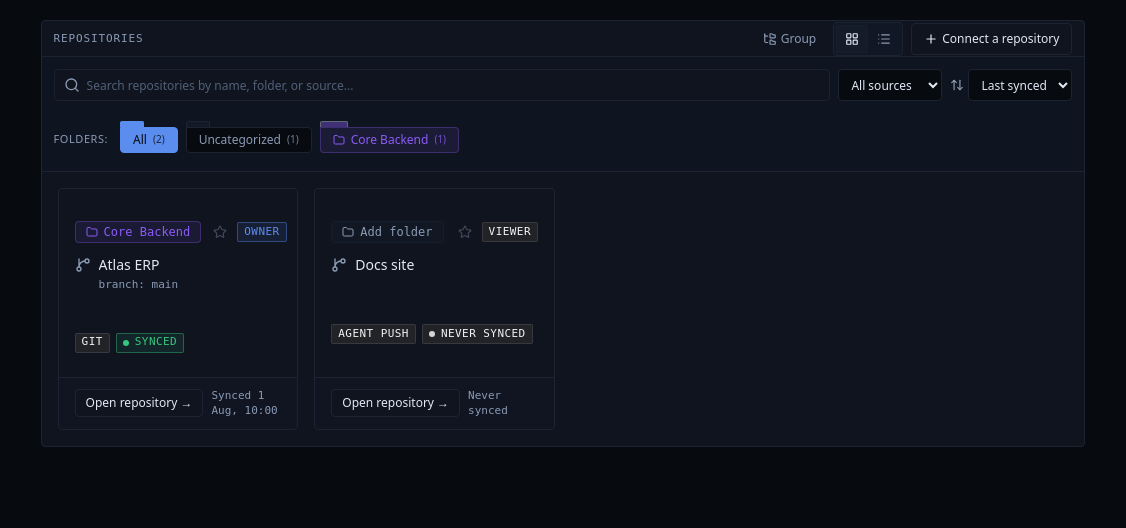
ReposPage › renders responsive mobile container, actions, and overflow table wrapper
Expected: the link "Atlas ERP" is shown, [99,255,159,274]
Switch to list view and verify table overflow container
Click the button named "List view" at (884, 38), box [868,24,900,52]
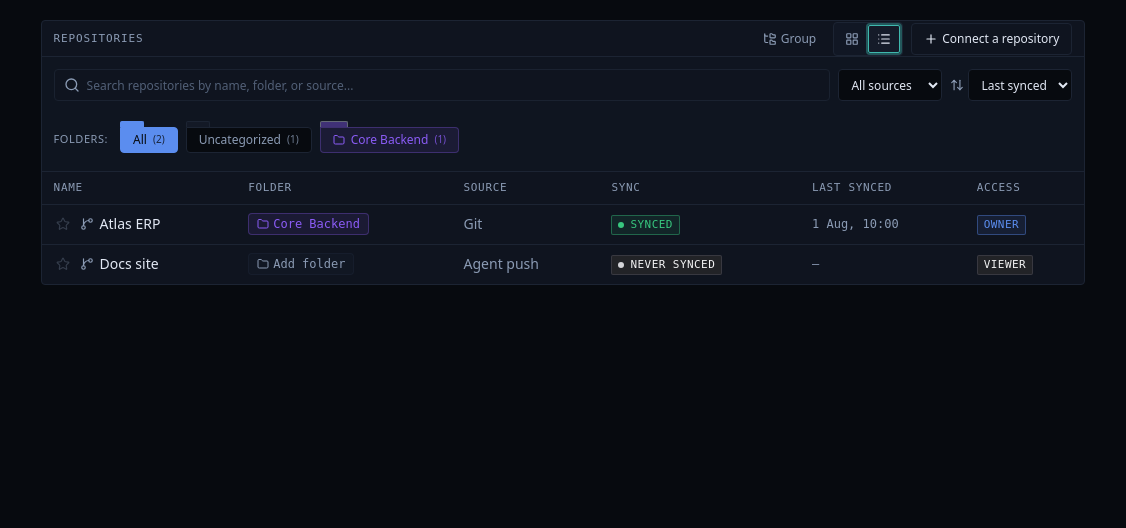
Now the table is shown, box [42,172,1084,284]
